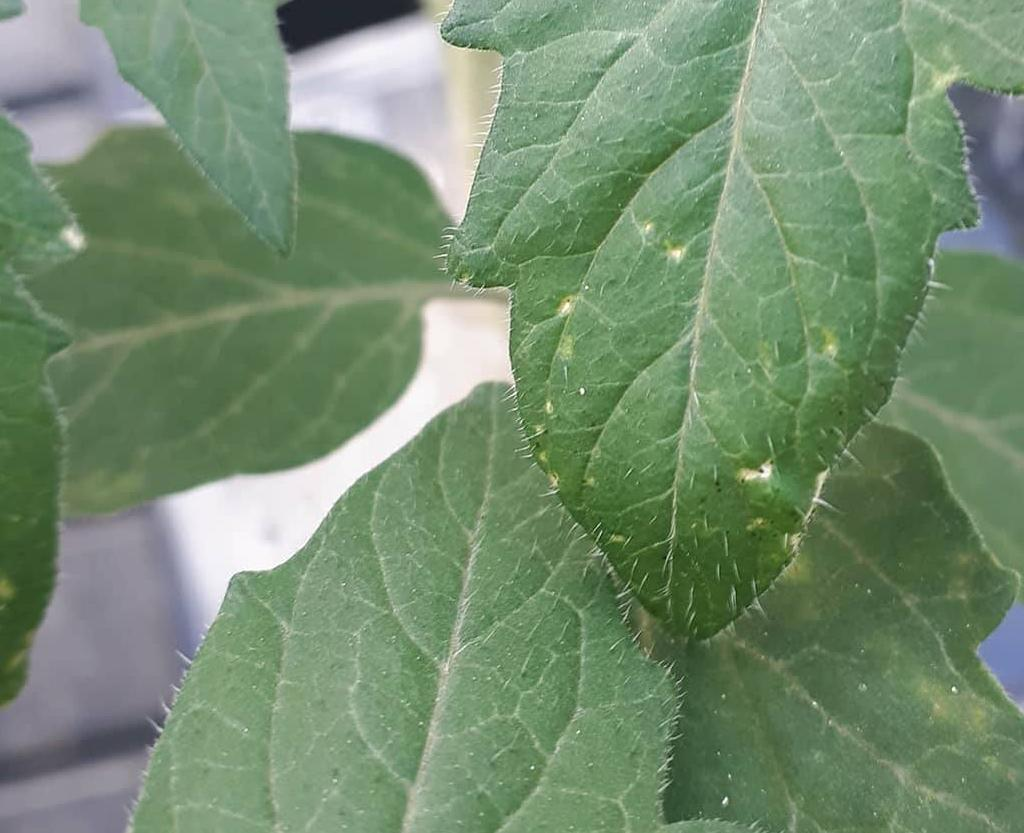Tomato mold leaf: (420, 0, 1024, 662), (0, 346, 810, 833)
